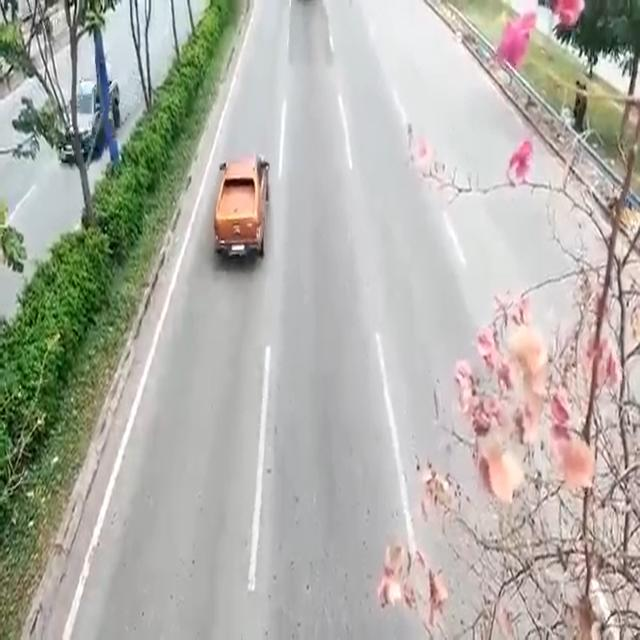car: (216, 157, 261, 256)
